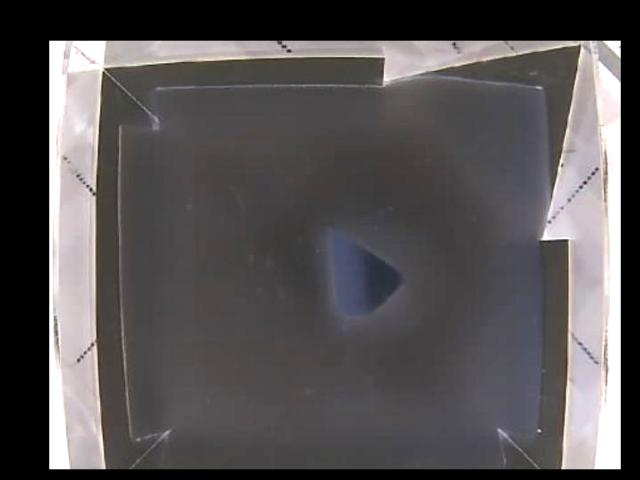Mooli: (327, 225, 404, 318)
